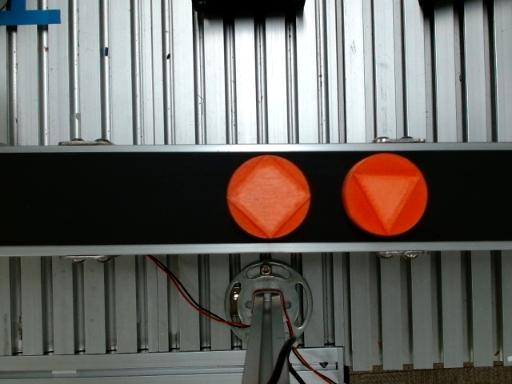Not_Square: (352, 172, 422, 234)
Orange_Waper: (342, 154, 427, 235), (227, 156, 310, 238)
Square: (227, 154, 311, 238)
